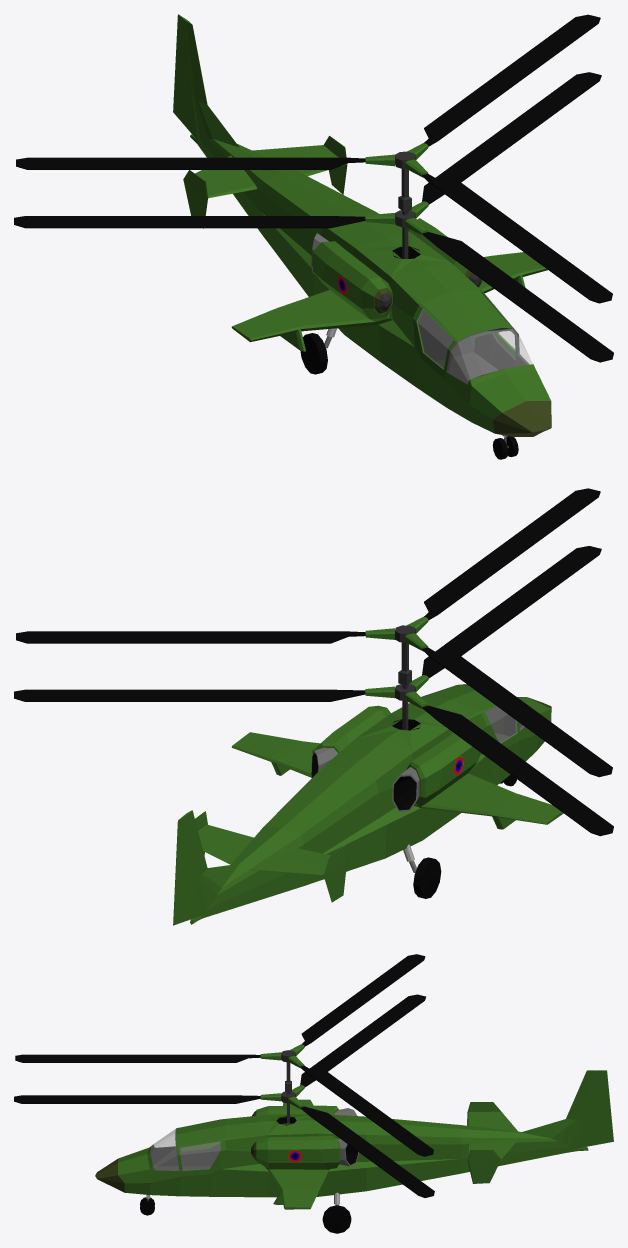
3 renders of one model, top to bottom at view 1: azimuth 30°, elevation 25°; view 2: azimuth 150°, elevation 25°; view 3: azimuth 270°, elevation 25°, orthographic. The views are drawn at different scales.
Parts seen in each view (by area): view 1: Circle.033, Circle.038, Circle.039, Circle.036, Circle.037, Circle.034, Landing gear_RL.007, Circle.043; view 2: Circle.033, Circle.038, Circle.039, Circle.034, Landing gear_RL.007, Circle.037, Circle.035; view 3: Circle.033, Circle.038, Circle.039, Circle.034, Circle.042, Circle.036, Landing gear_RL.006.
Part boxes in pixels (x1=…): Circle.033: x1=183, y1=19, x2=551, y2=436; Circle.038: x1=14, y1=72, x2=613, y2=362; Circle.039: x1=16, y1=14, x2=612, y2=303; Circle.036: x1=446, y1=329, x2=532, y2=383; Circle.037: x1=413, y1=304, x2=456, y2=377; Circle.034: x1=173, y1=14, x2=197, y2=140; Landing gear_RL.007: x1=300, y1=328, x2=336, y2=374; Circle.043: x1=258, y1=145, x2=327, y2=157; Circle.033: x1=184, y1=684, x2=563, y2=924; Circle.038: x1=14, y1=546, x2=613, y2=836; Circle.039: x1=16, y1=488, x2=612, y2=777; Circle.034: x1=173, y1=815, x2=201, y2=925; Landing gear_RL.007: x1=403, y1=844, x2=441, y2=898; Circle.037: x1=480, y1=705, x2=518, y2=747; Circle.035: x1=258, y1=858, x2=325, y2=874; Circle.033: x1=95, y1=1070, x2=597, y2=1209; Circle.038: x1=14, y1=994, x2=434, y2=1197; Circle.039: x1=15, y1=954, x2=433, y2=1156; Circle.034: x1=577, y1=1070, x2=613, y2=1148; Circle.042: x1=177, y1=1139, x2=225, y2=1176; Circle.036: x1=150, y1=1129, x2=178, y2=1170; Landing gear_RL.006: x1=322, y1=1192, x2=351, y2=1233.
Size of the model in its own units: 1451 by 533 by 1812.
